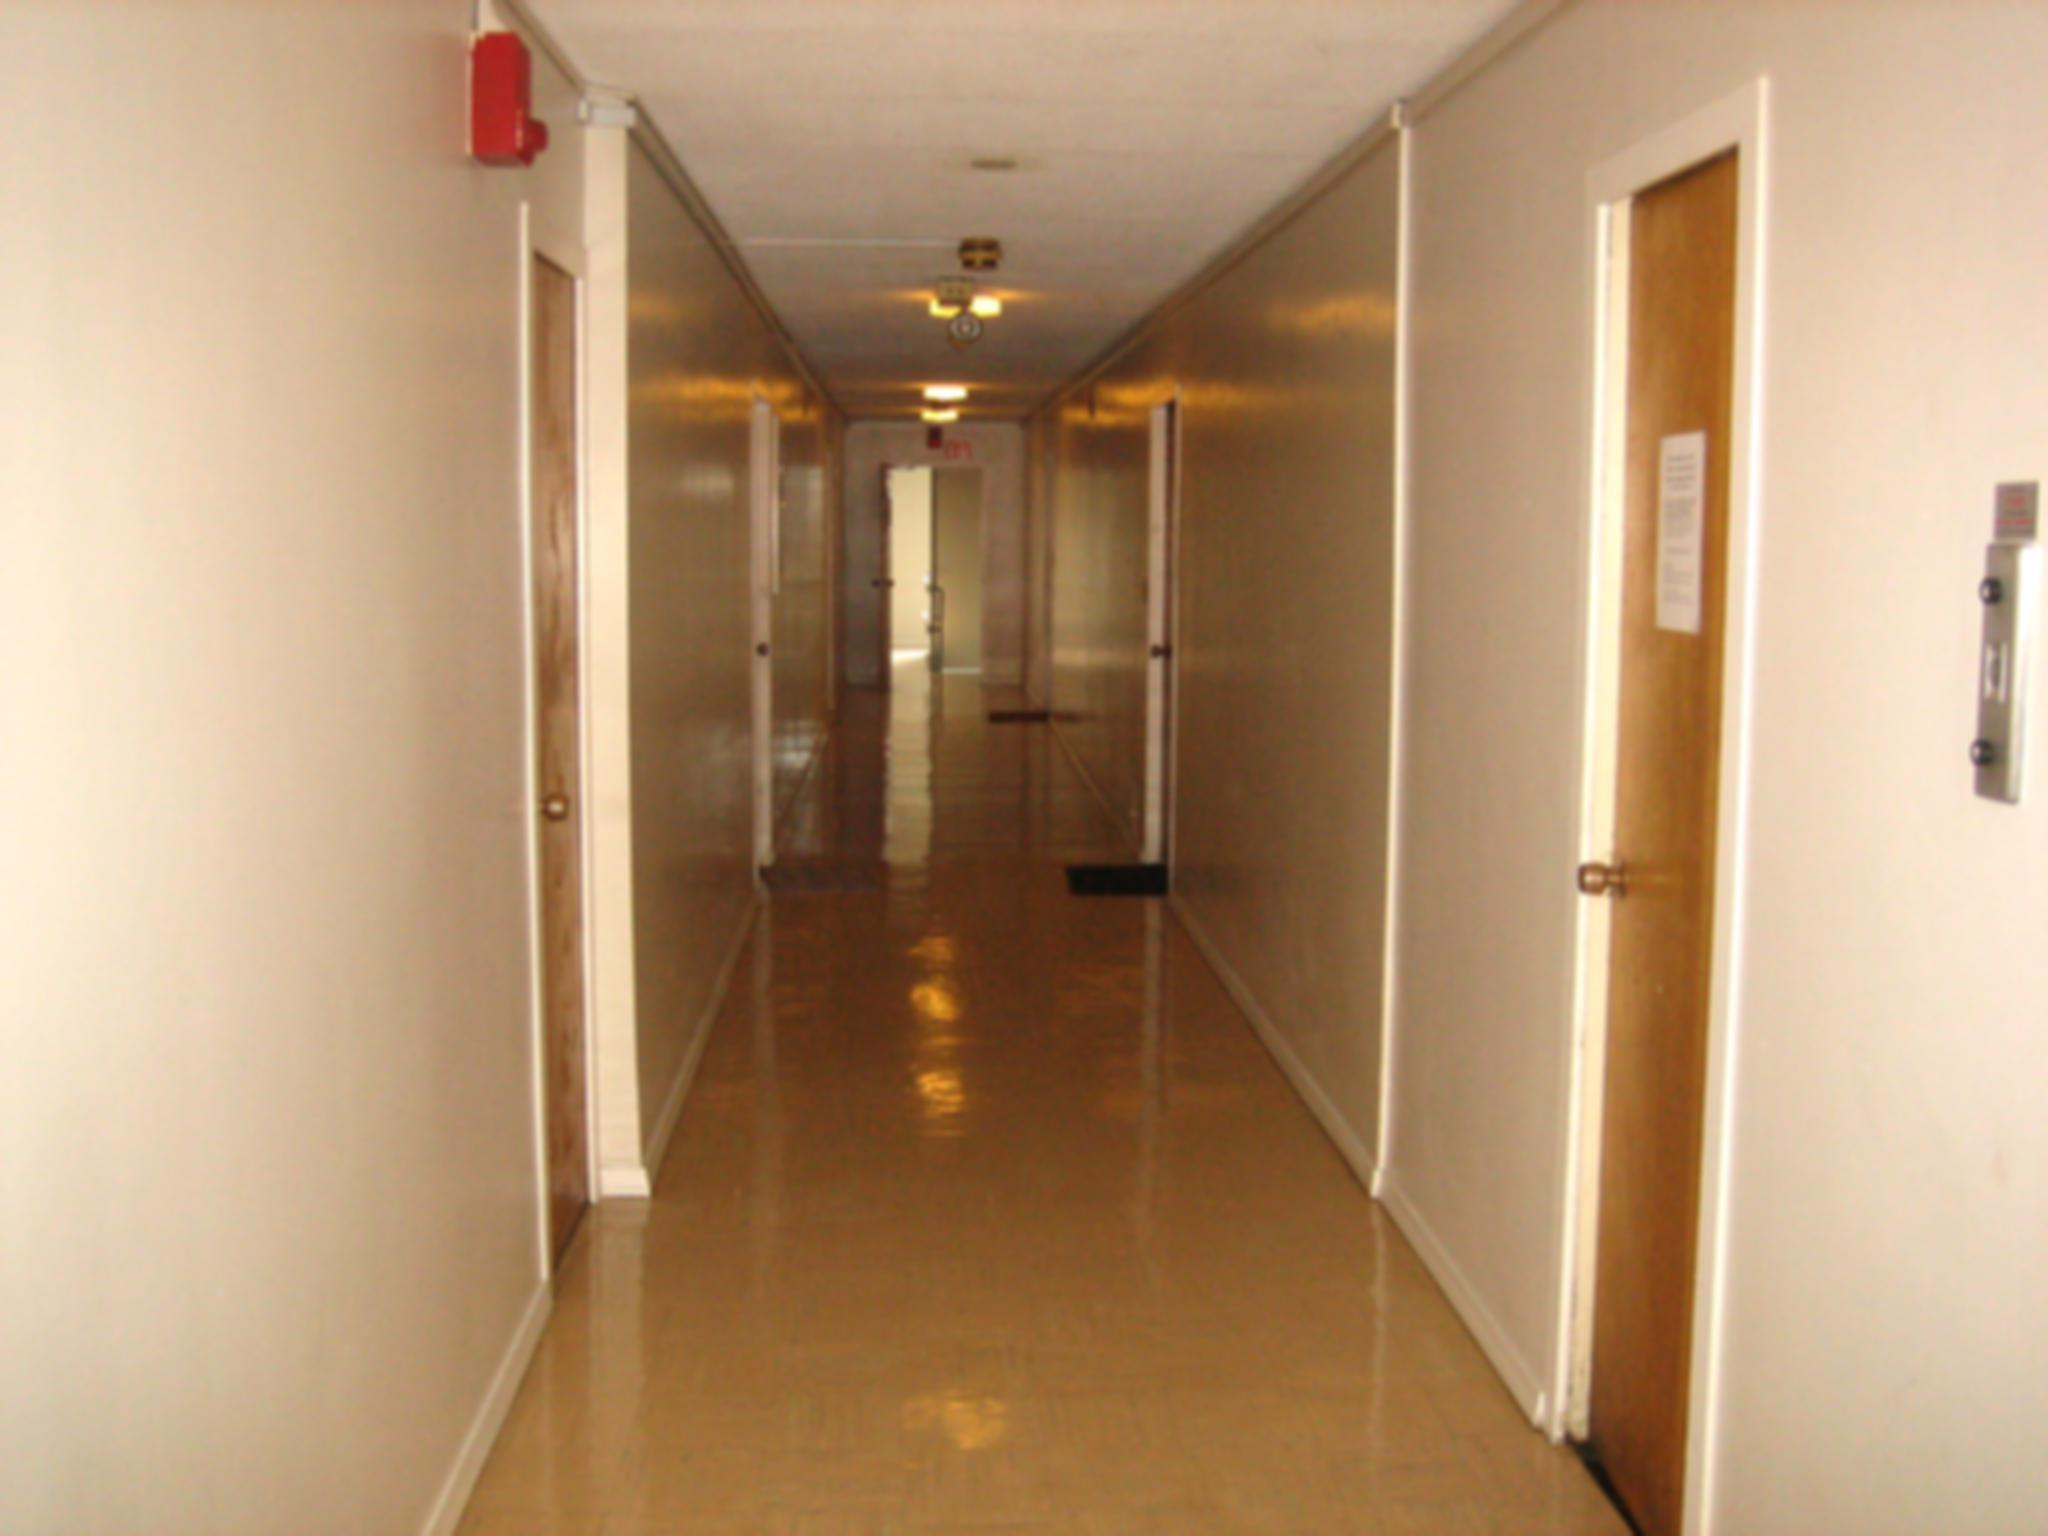Puerta: (1592, 155, 1709, 1530), (500, 223, 637, 1263), (934, 457, 998, 682)
